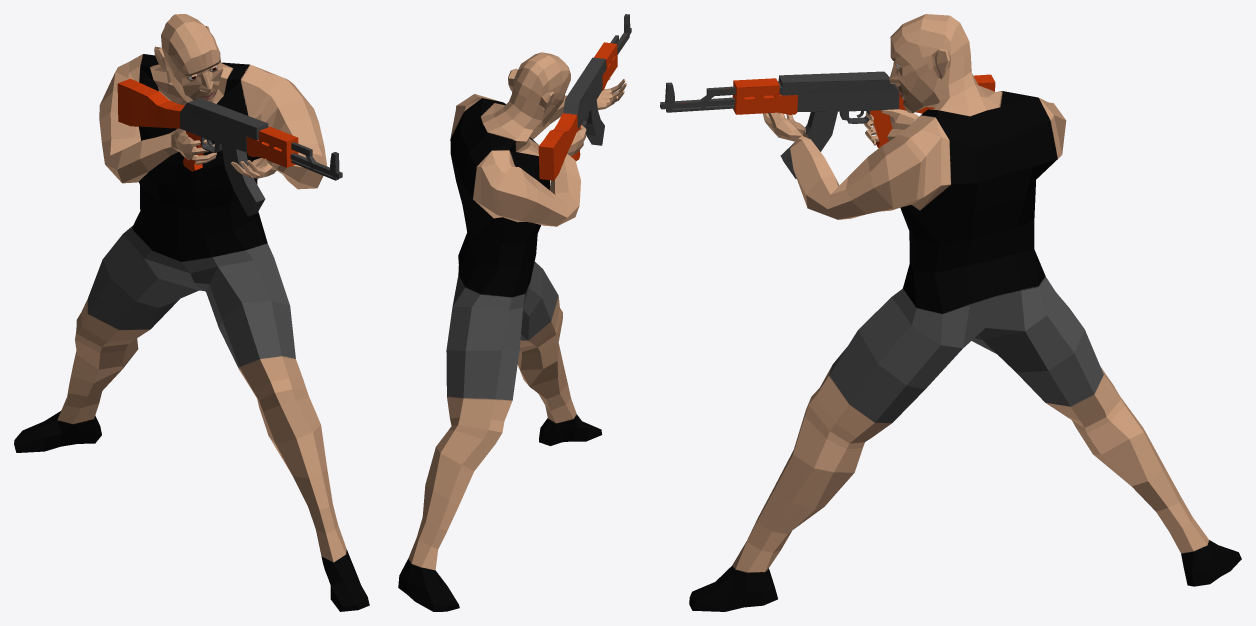
File: PlayerShoot(10).obj
3 renders of one model, left to right at view 1: azimuth 30°, elevation 25°; view 2: azimuth 150°, elevation 25°; view 3: azimuth 270°, elevation 25°, orthographic. The views are drawn at different scales.
Parts seen in each view (by area): view 1: Plane002, Object001; view 2: Plane002, Object001; view 3: Plane002, Object001.
Part boxes in pixels (<box>): Plane002: <box>14,14,369,611</box>; Object001: <box>117,78,342,216</box>; Plane002: <box>398,52,626,611</box>; Object001: <box>538,14,631,180</box>; Plane002: <box>689,14,1241,611</box>; Object001: <box>660,71,995,178</box>.
Size of the model in its own units: 538 by 1636 by 1547.
